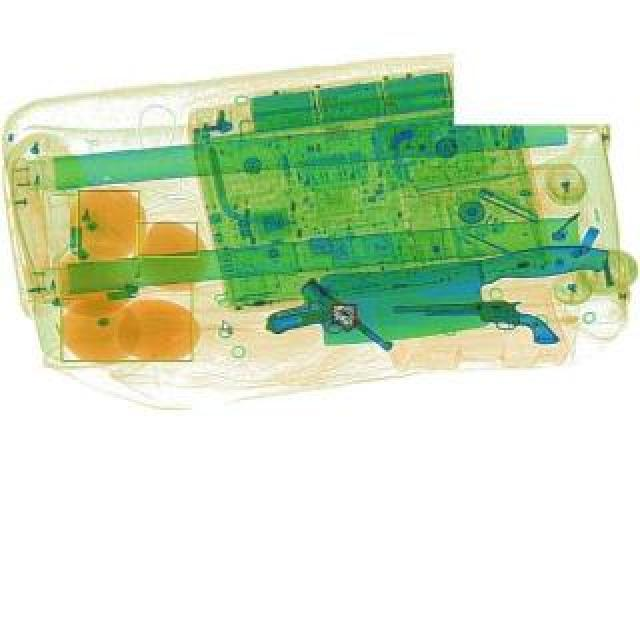gun: (260, 276, 394, 396), (392, 298, 560, 346)
knife: (314, 240, 616, 348)
